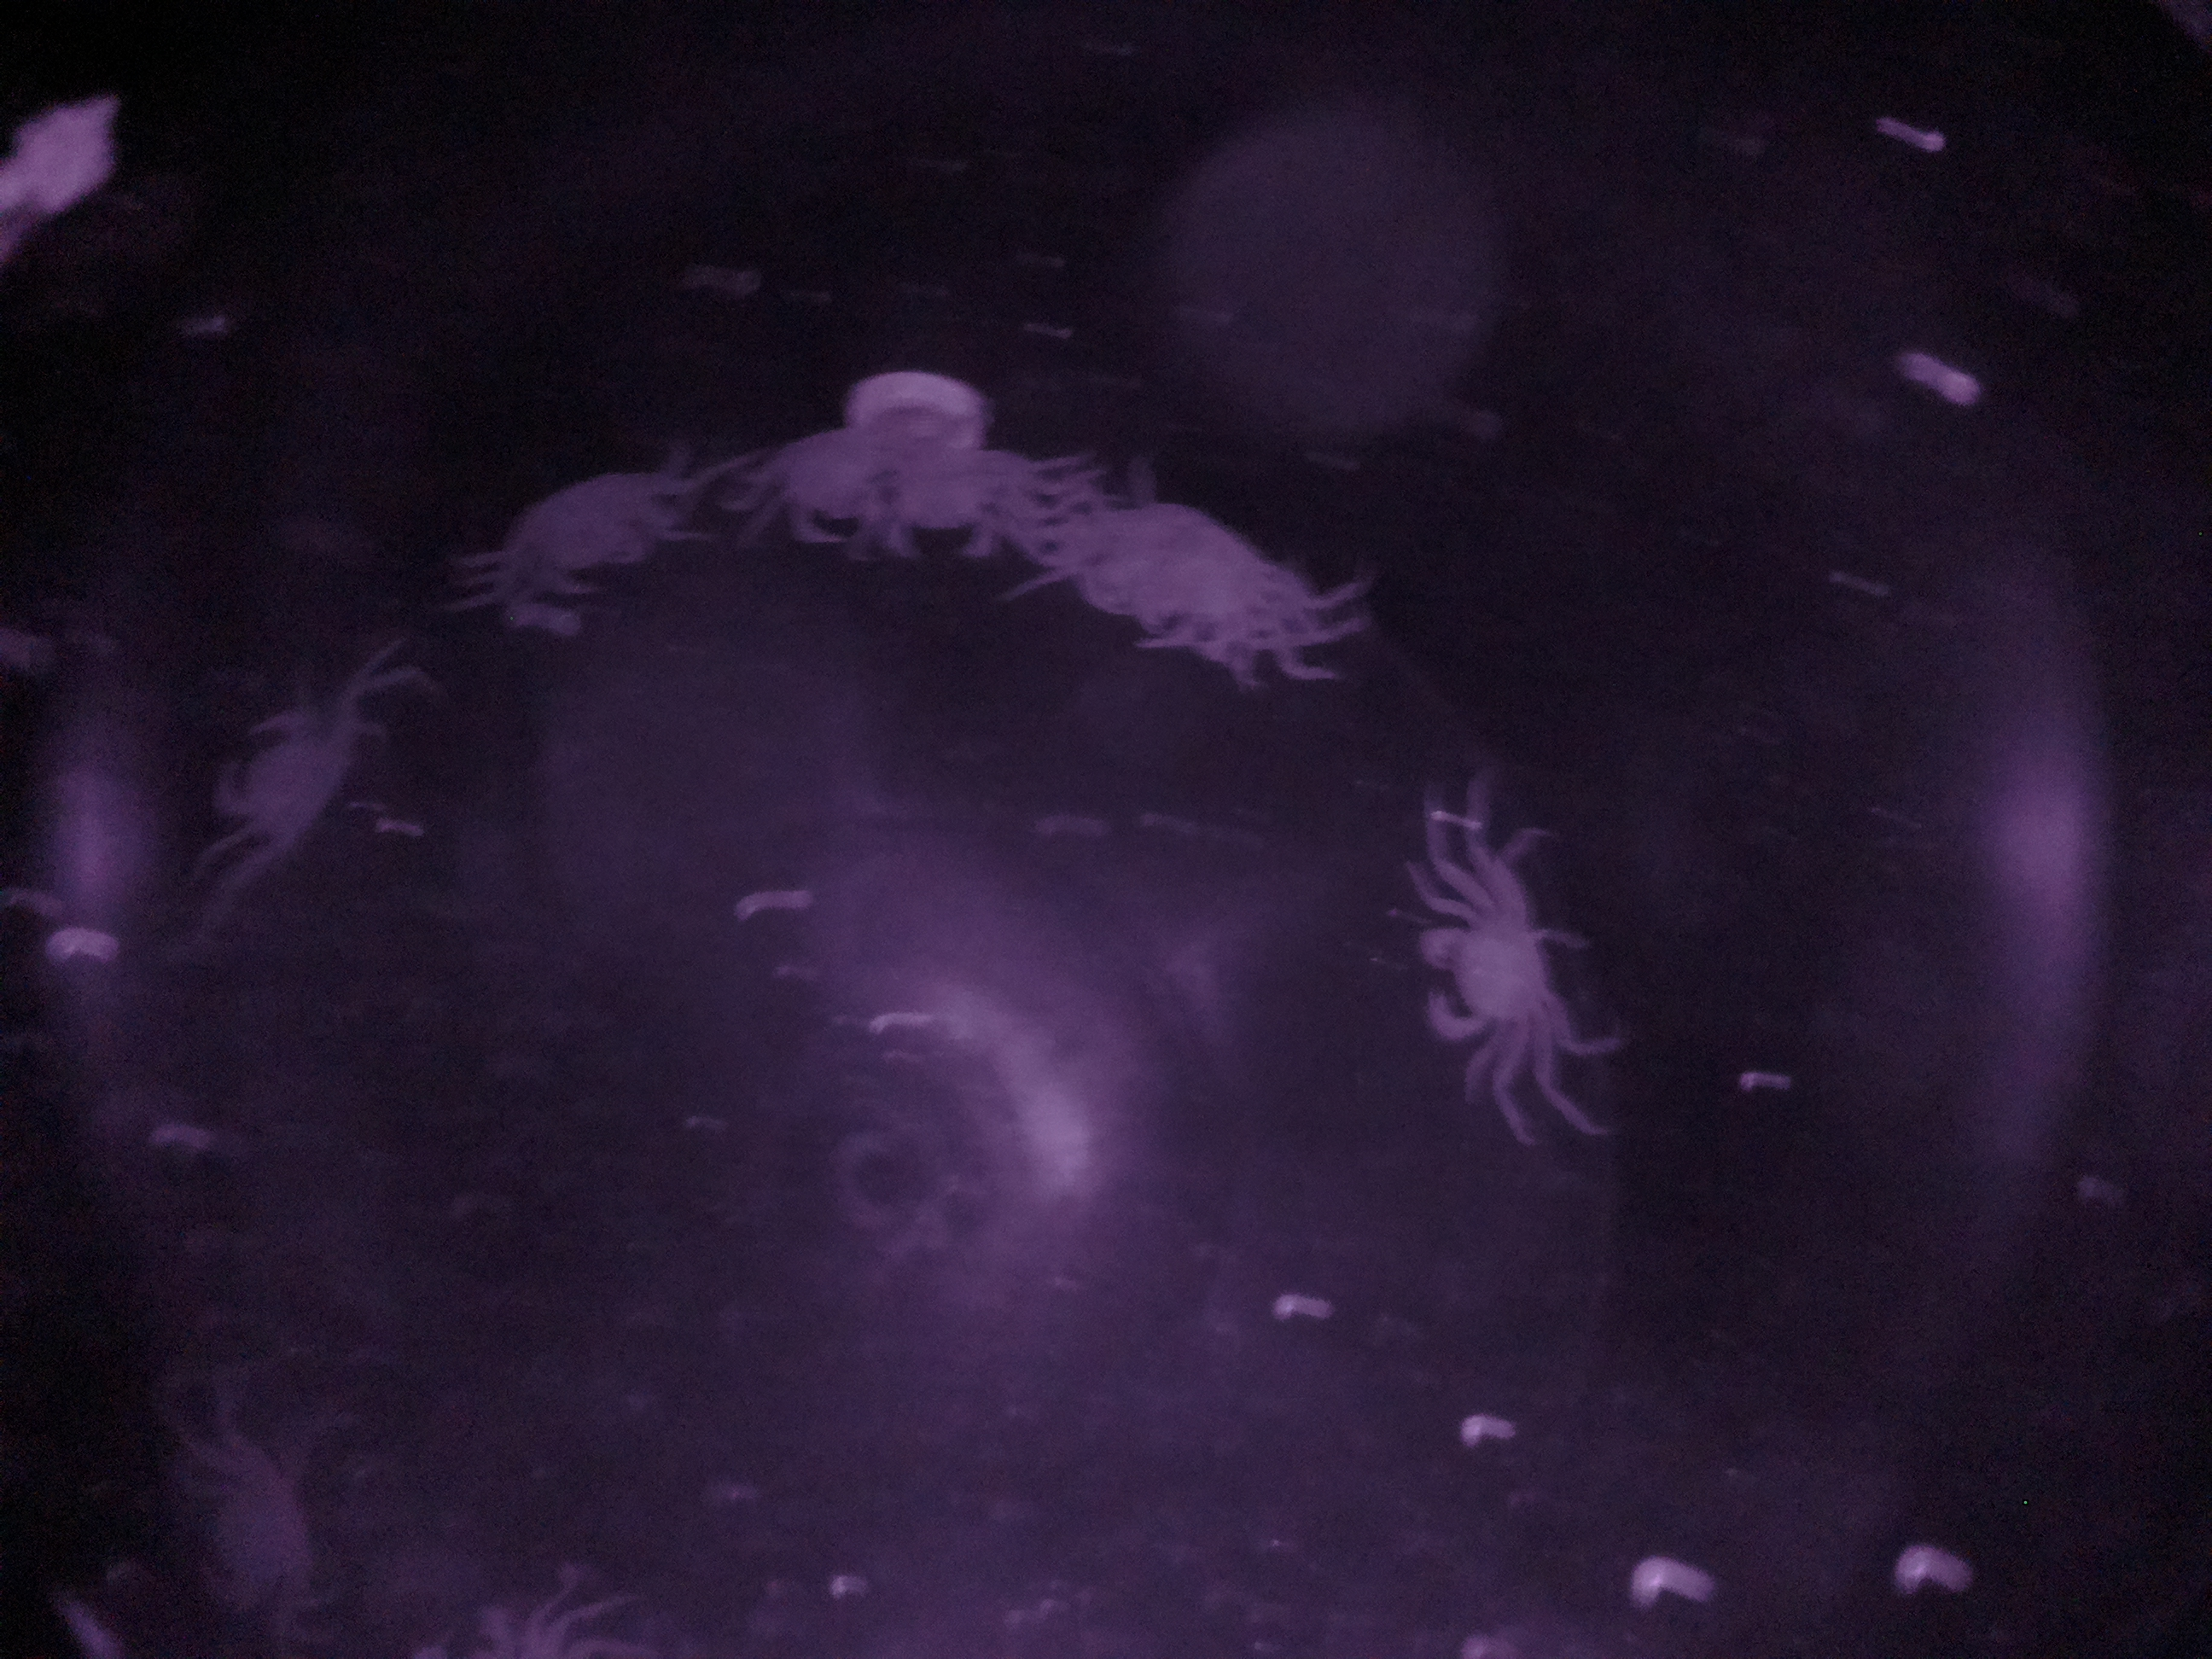Crab: (1399, 877, 1576, 1080)
